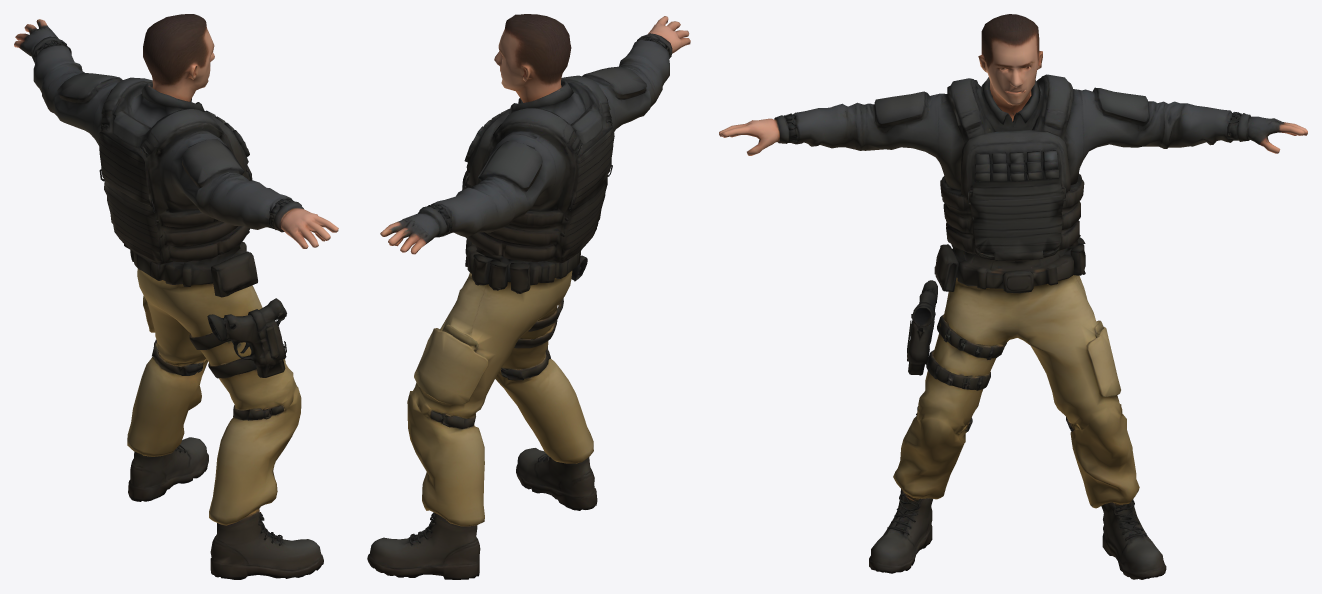
Rendered from CHR_Meridian_Base.glb.
3 renders of one model, left to right at view 1: azimuth 30°, elevation 25°; view 2: azimuth 150°, elevation 25°; view 3: azimuth 270°, elevation 25°, orthographic.
Parts seen in each view (by area): view 1: tripo_node_095bc44b-3575-4c8f-bbe9-80990f81c313; view 2: tripo_node_095bc44b-3575-4c8f-bbe9-80990f81c313; view 3: tripo_node_095bc44b-3575-4c8f-bbe9-80990f81c313.
Part boxes in pixels (x1,y1,x2,y2): tripo_node_095bc44b-3575-4c8f-bbe9-80990f81c313: [14, 14, 338, 579]; tripo_node_095bc44b-3575-4c8f-bbe9-80990f81c313: [367, 14, 690, 579]; tripo_node_095bc44b-3575-4c8f-bbe9-80990f81c313: [719, 14, 1307, 579].
Bounding box in the file's own units: 0.3105 × 0.9746 × 0.998.
Materials: 1 (1 with a texture image).
